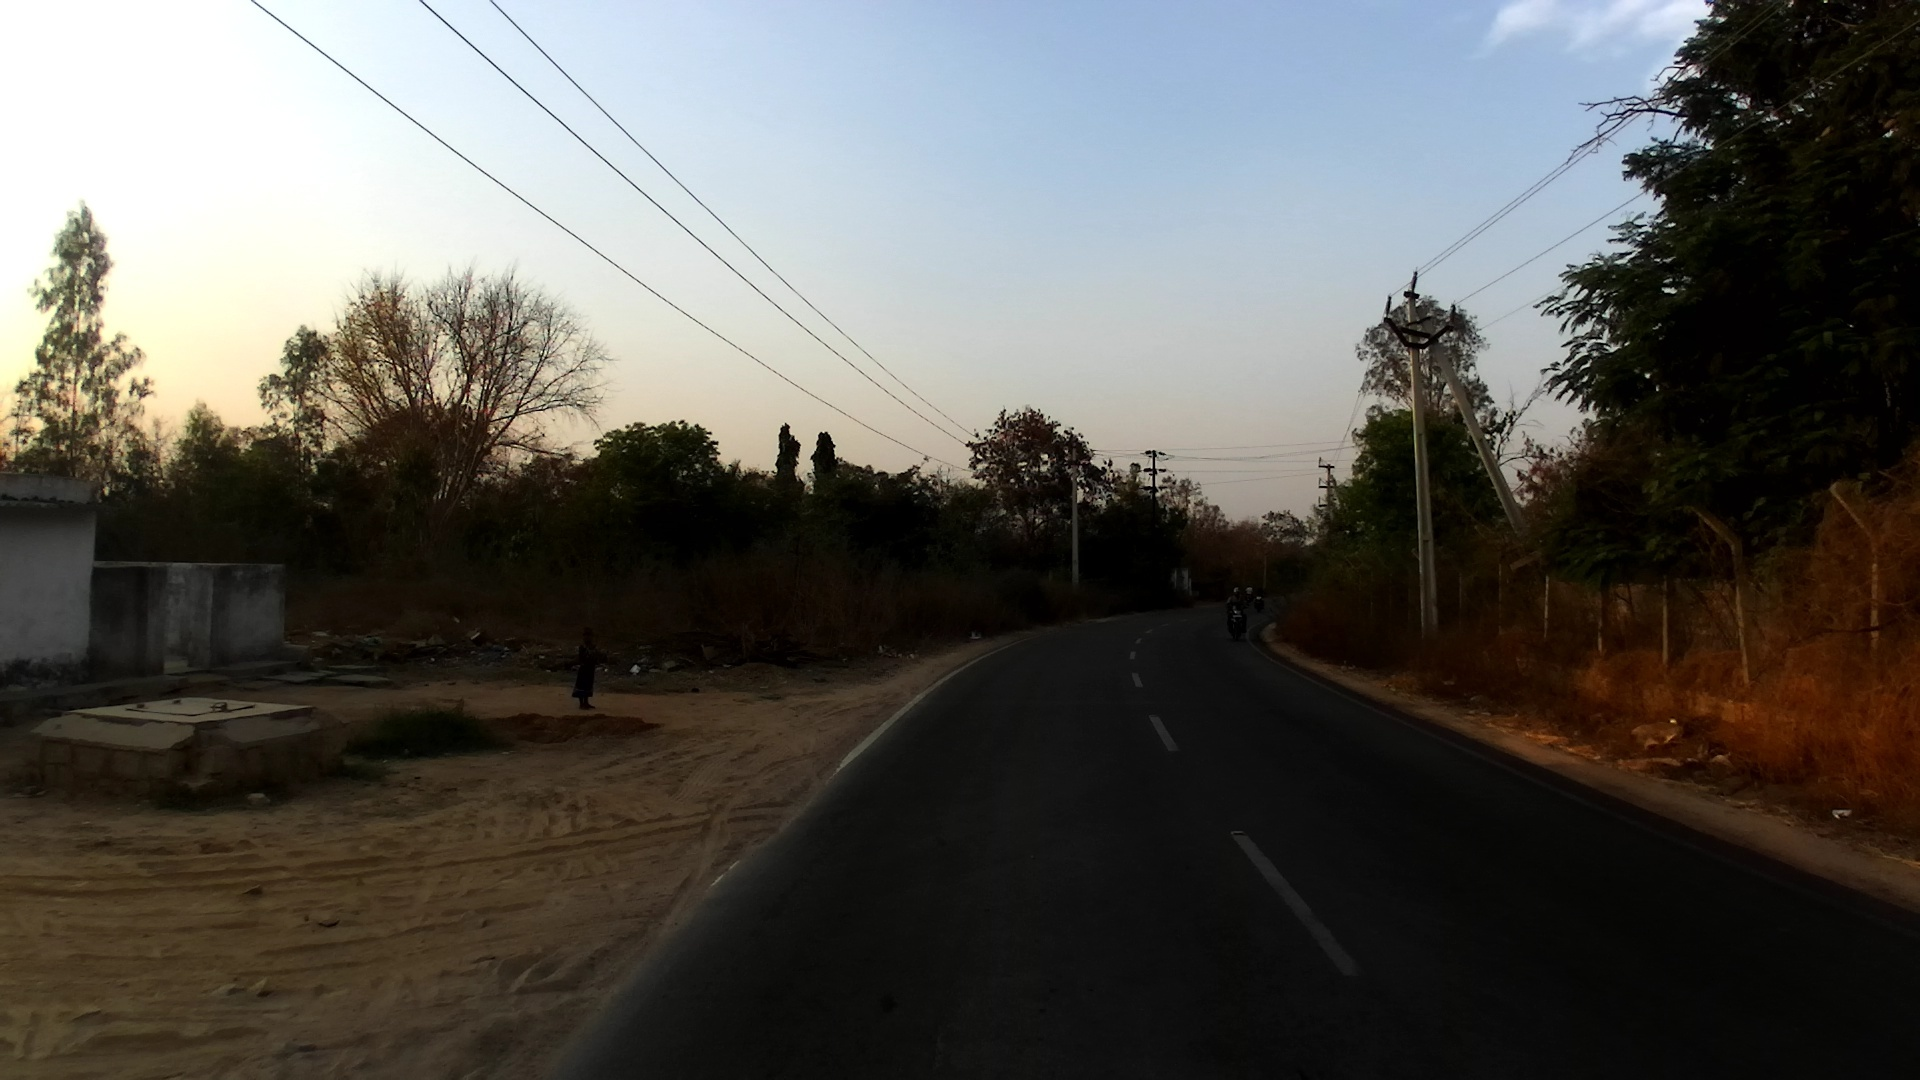motorcycle: (1224, 600, 1255, 641), (1252, 595, 1269, 622)
person: (564, 627, 600, 708)
rider: (1223, 585, 1248, 624), (1255, 585, 1267, 605), (1245, 583, 1255, 604)
